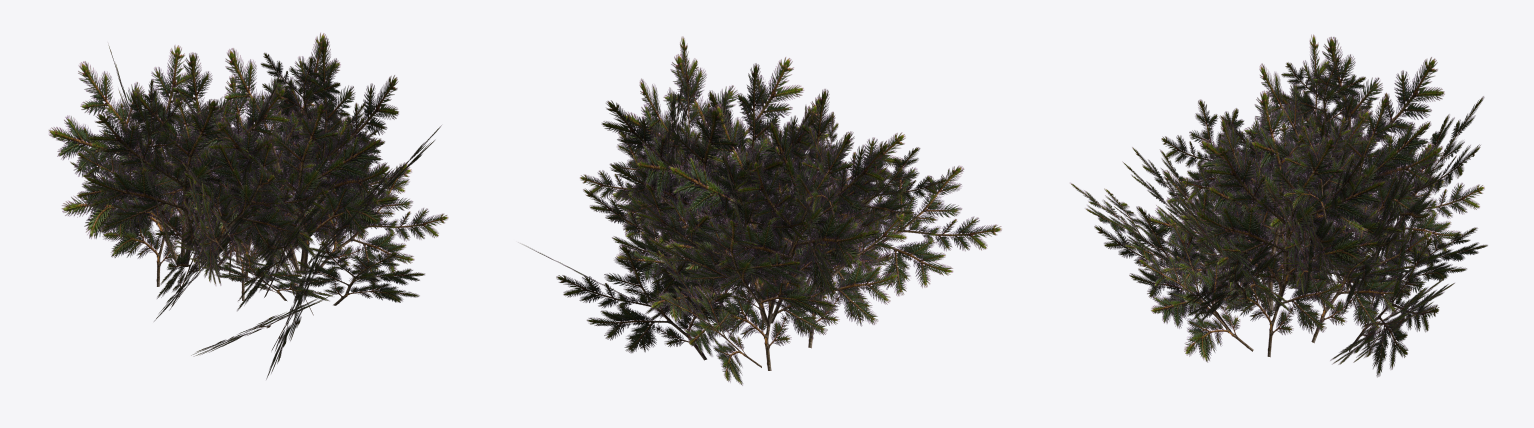
The model's file is bush4.glb.
The picture shows the model from 3 angles, left to right: view 1: azimuth 30°, elevation 25°; view 2: azimuth 150°, elevation 25°; view 3: azimuth 270°, elevation 25°; orthographic projection. The views are drawn at different scales.
Parts seen in each view (by area): view 1: Bush28_High_001; view 2: Bush28_High_001; view 3: Bush28_High_001.
Part boxes in pixels (x1,y1,x2,y2): Bush28_High_001: [49, 32, 448, 379]; Bush28_High_001: [520, 36, 1001, 385]; Bush28_High_001: [1070, 34, 1487, 377].
Size of the model in its own units: 2.83 by 2.14 by 3.1.
Materials: 1 (1 with a texture image).
